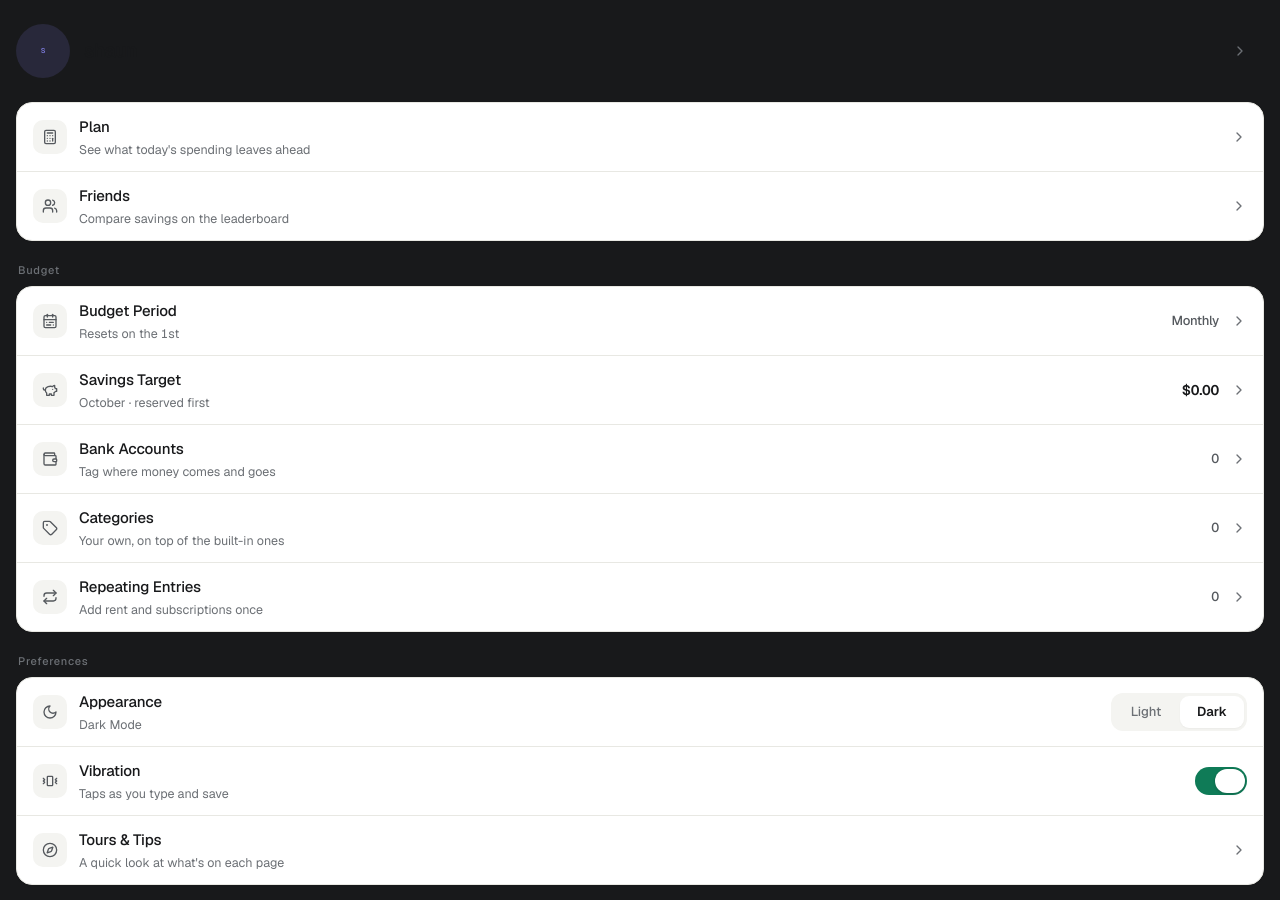
Test case: deep-linked sheets › stays put when a sheet opened from the menu itself is closed
This screenshot has width=1280, height=900.
Click the button "Budget Period Resets on the 1st Monthly". click: (50, 321)
box: [17,287,1263,355]
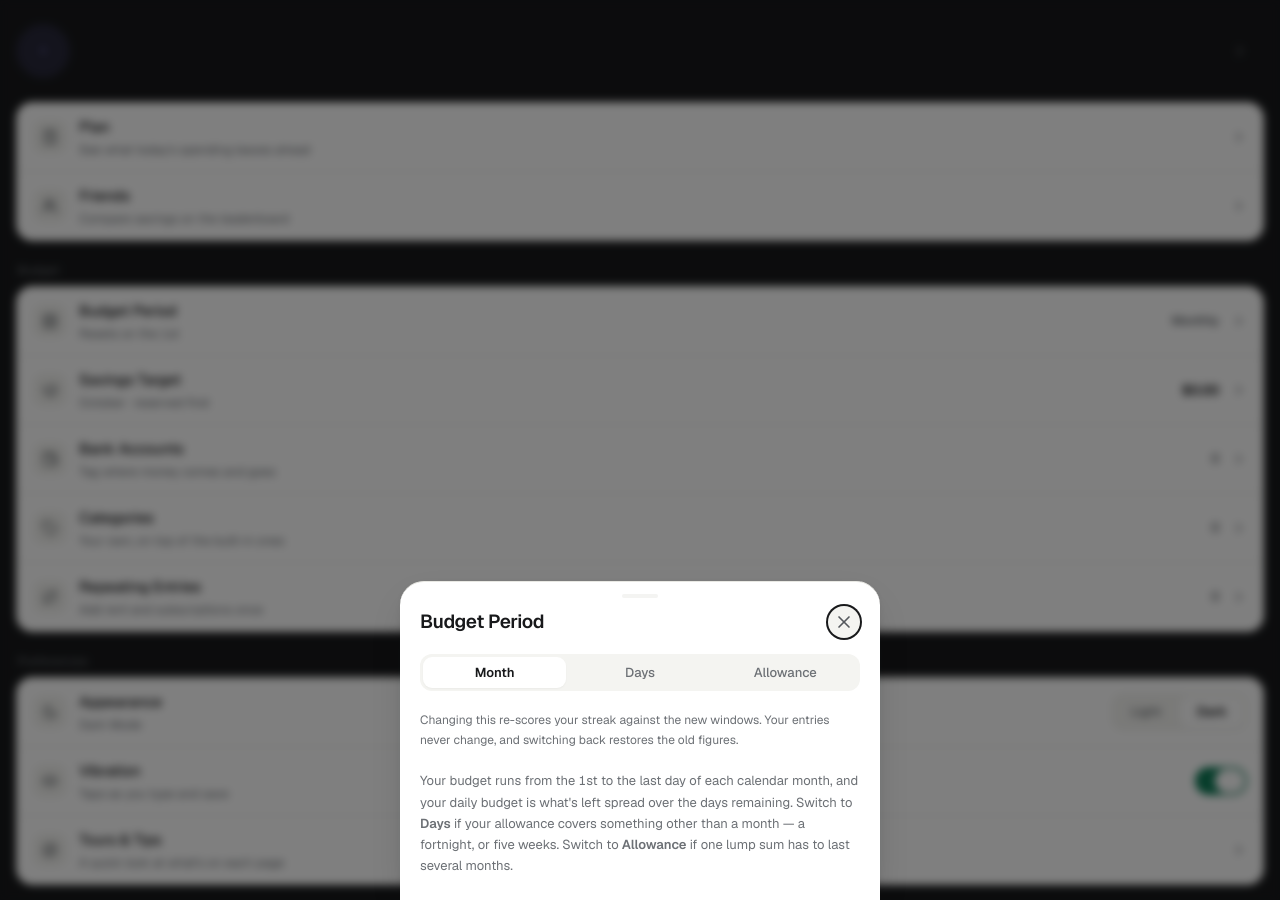
Now the dialog is shown, box [400,581,880,899]
Click the button named "Close dialog". click: (844, 622)
box: [828,606,860,638]
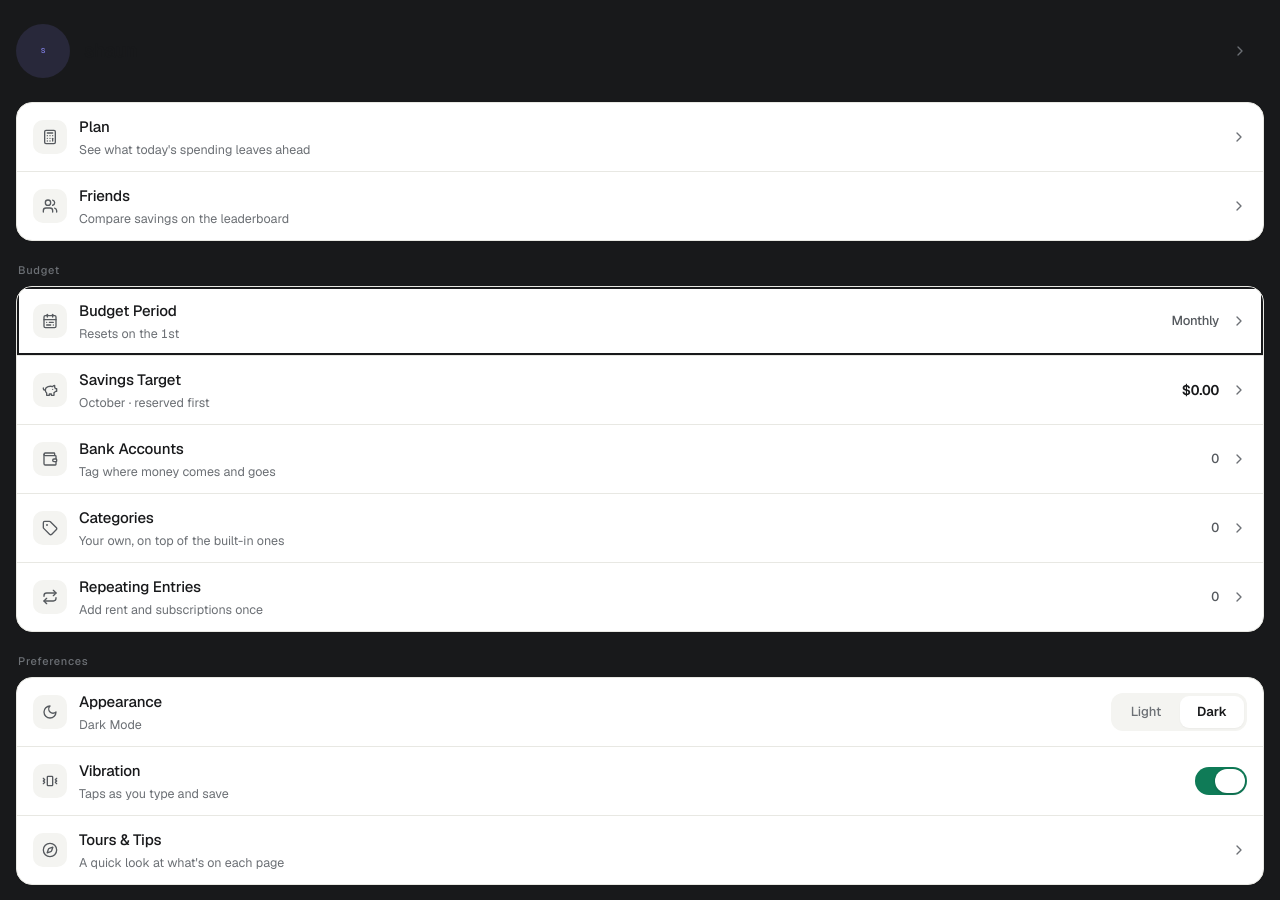
Now the dialog is gone
